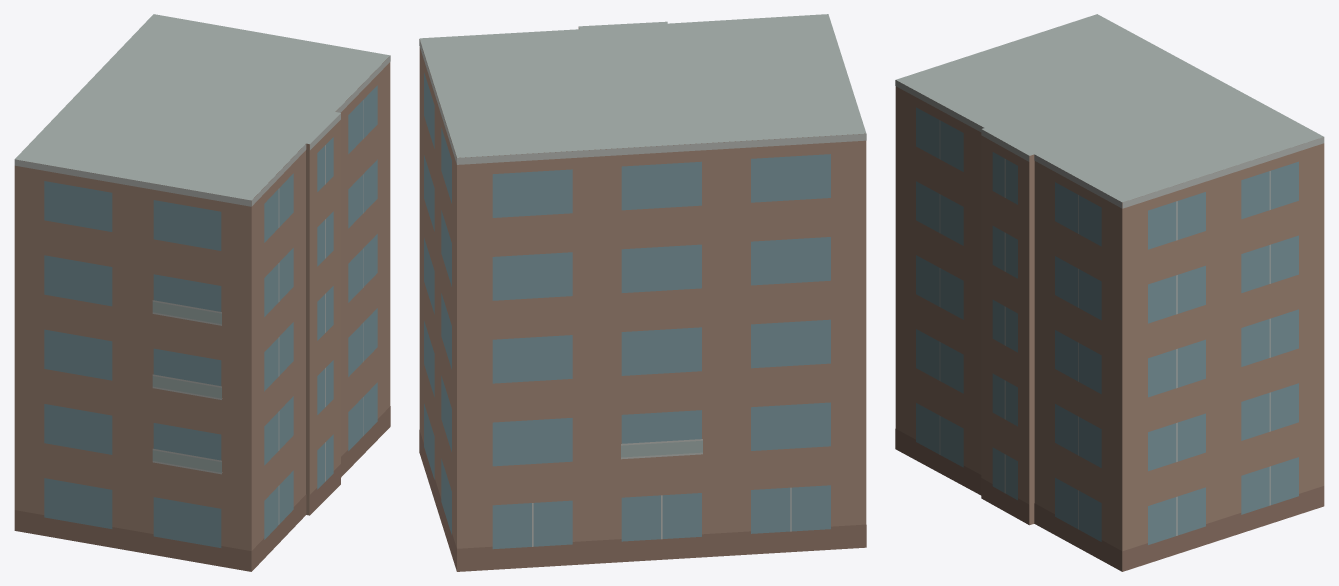
File: survey-upis-32956336.glb
3 renders of one model, left to right at view 1: azimuth 30°, elevation 25°; view 2: azimuth 150°, elevation 25°; view 3: azimuth 270°, elevation 25°, orthographic. The views are drawn at different scales.
Parts seen in each view (by area): view 1: survey-upis-32956336.tmp; view 2: survey-upis-32956336.tmp; view 3: survey-upis-32956336.tmp.
Part boxes in pixels (x1,y1,x2,y2): survey-upis-32956336.tmp: (14,14,390,571); survey-upis-32956336.tmp: (419,14,866,571); survey-upis-32956336.tmp: (895,14,1324,571).
Bounding box in the file's own units: 15.77 × 14.4 × 15.16.
